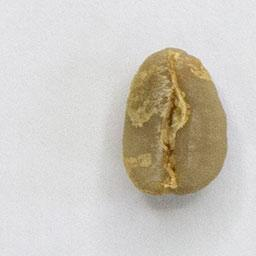longberry: (119, 45, 230, 199)
